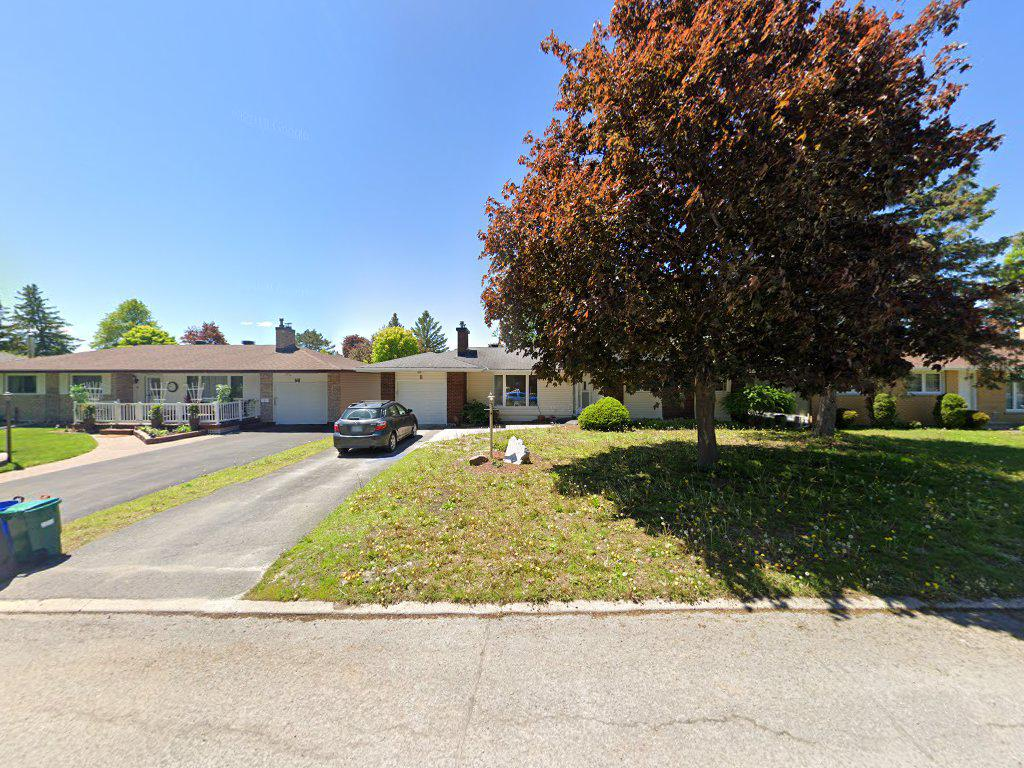trunk: (691, 378, 725, 470)
